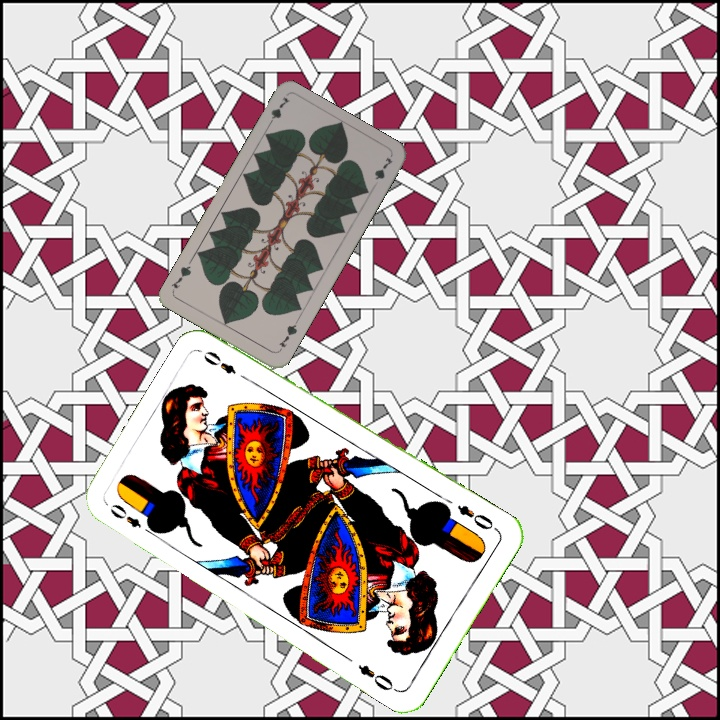EO: (106, 499, 158, 538), (453, 500, 501, 534)
G7: (263, 93, 293, 130), (274, 317, 300, 354)
